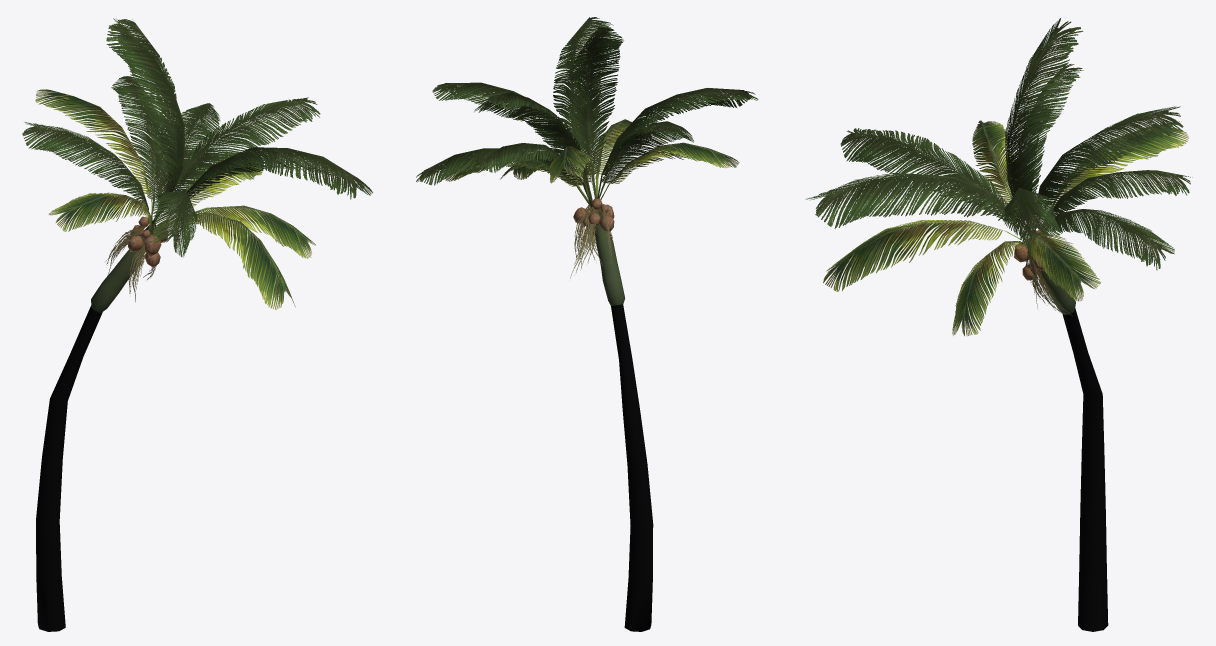
File: kiV4_2s_Hi.fbx
3 renders of one model, left to right at view 1: azimuth 30°, elevation 25°; view 2: azimuth 150°, elevation 25°; view 3: azimuth 270°, elevation 25°, orthographic. The views are drawn at different scales.
Visible parts, largest first — view 1: kiV4_Hi; view 2: kiV4_Hi; view 3: kiV4_Hi.
Boxes of the visible parts, x1,y1,x2,y2 form: kiV4_Hi: (22, 18, 372, 631); kiV4_Hi: (416, 17, 758, 631); kiV4_Hi: (805, 18, 1192, 631).
Size of the model in its own units: 2292 by 4497 by 2609.
